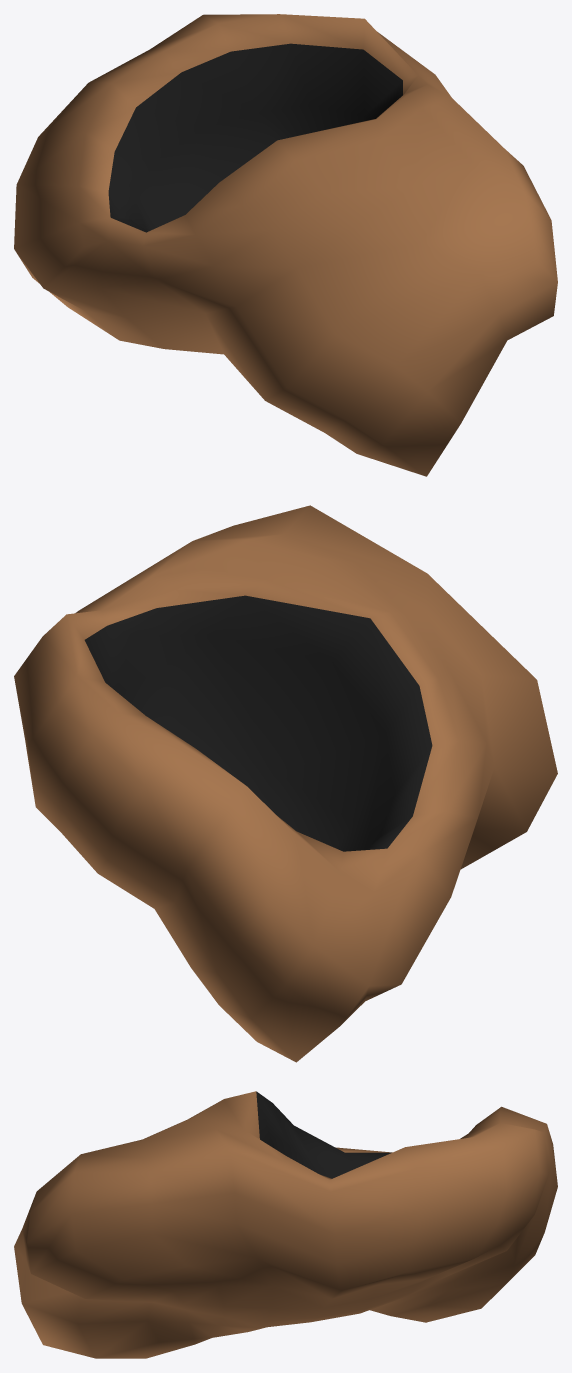
The model's file is Skull Eye.fbx.
The picture shows the model from 3 angles, top to bottom: view 1: azimuth 30°, elevation 25°; view 2: azimuth 150°, elevation 25°; view 3: azimuth 270°, elevation 25°; orthographic projection. The views are drawn at different scales.
Visible parts, largest first — view 1: Skull Eye - MAVG; view 2: Skull Eye - MAVG; view 3: Skull Eye - MAVG.
Part boxes in pixels (<box>): Skull Eye - MAVG: <box>14,14,557,476</box>; Skull Eye - MAVG: <box>14,505,557,1062</box>; Skull Eye - MAVG: <box>14,1091,557,1358</box>.
Bounding box in the file's own units: 12.54 × 9.81 × 18.31.
